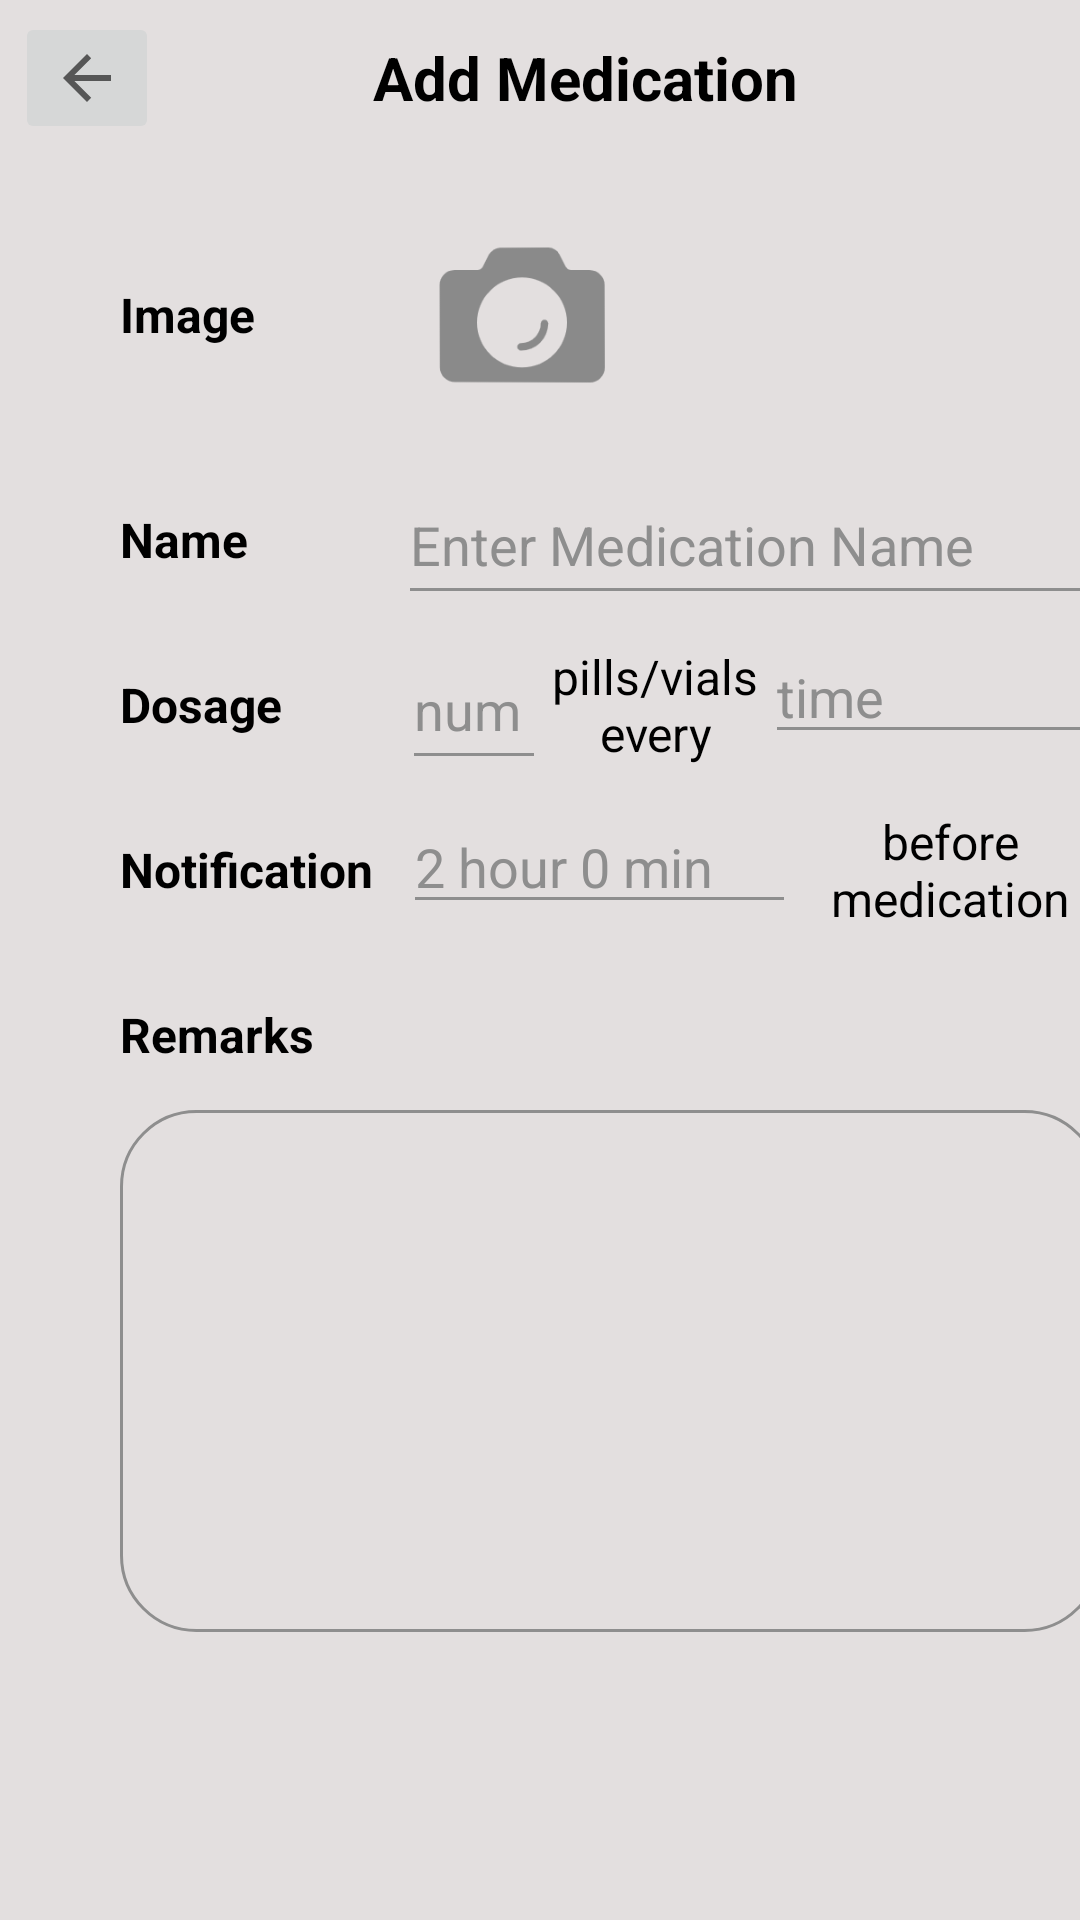

Where icons sit on this 1080 x 1920 app screen, as (x1, y1, x2, y2):
back button: (27, 30, 147, 126)
photo: (439, 247, 605, 383)
